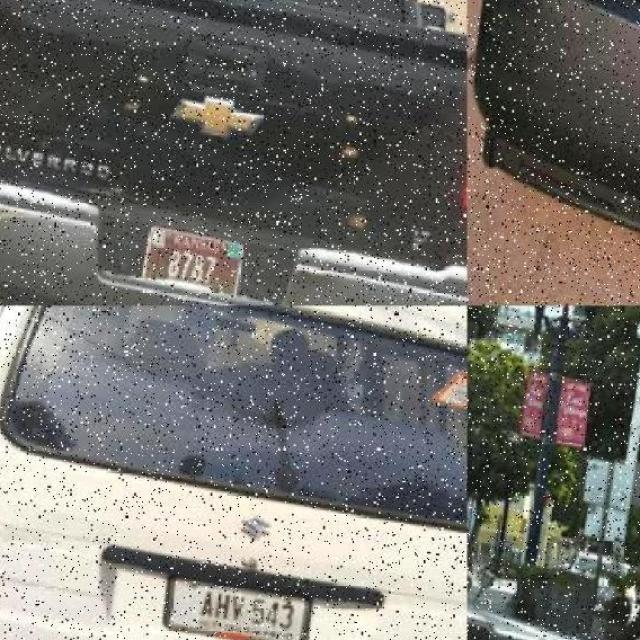license-plate: (131, 215, 259, 316), (170, 554, 319, 640)
